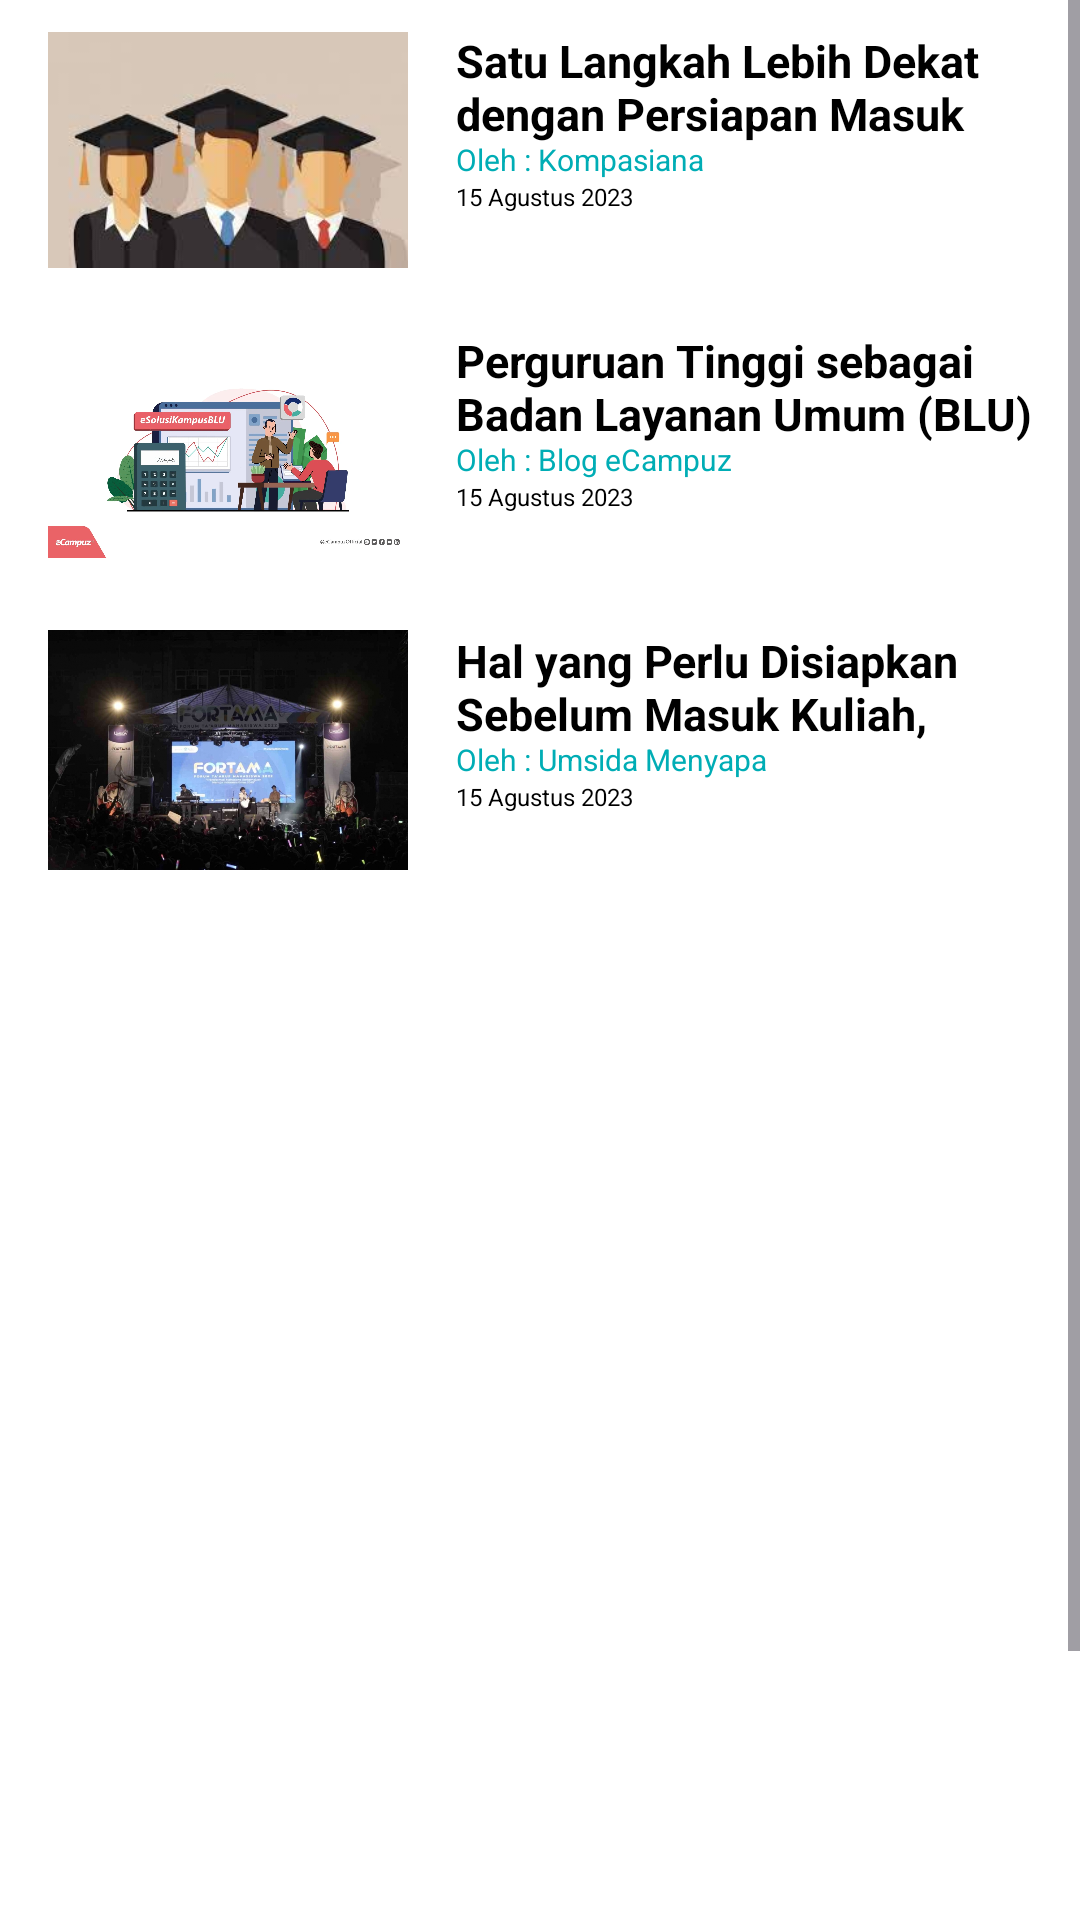

Point at icon controls on the screen. Image size 1080px×1920px, points as (x,y).
Artikel Image15: (224,474)
